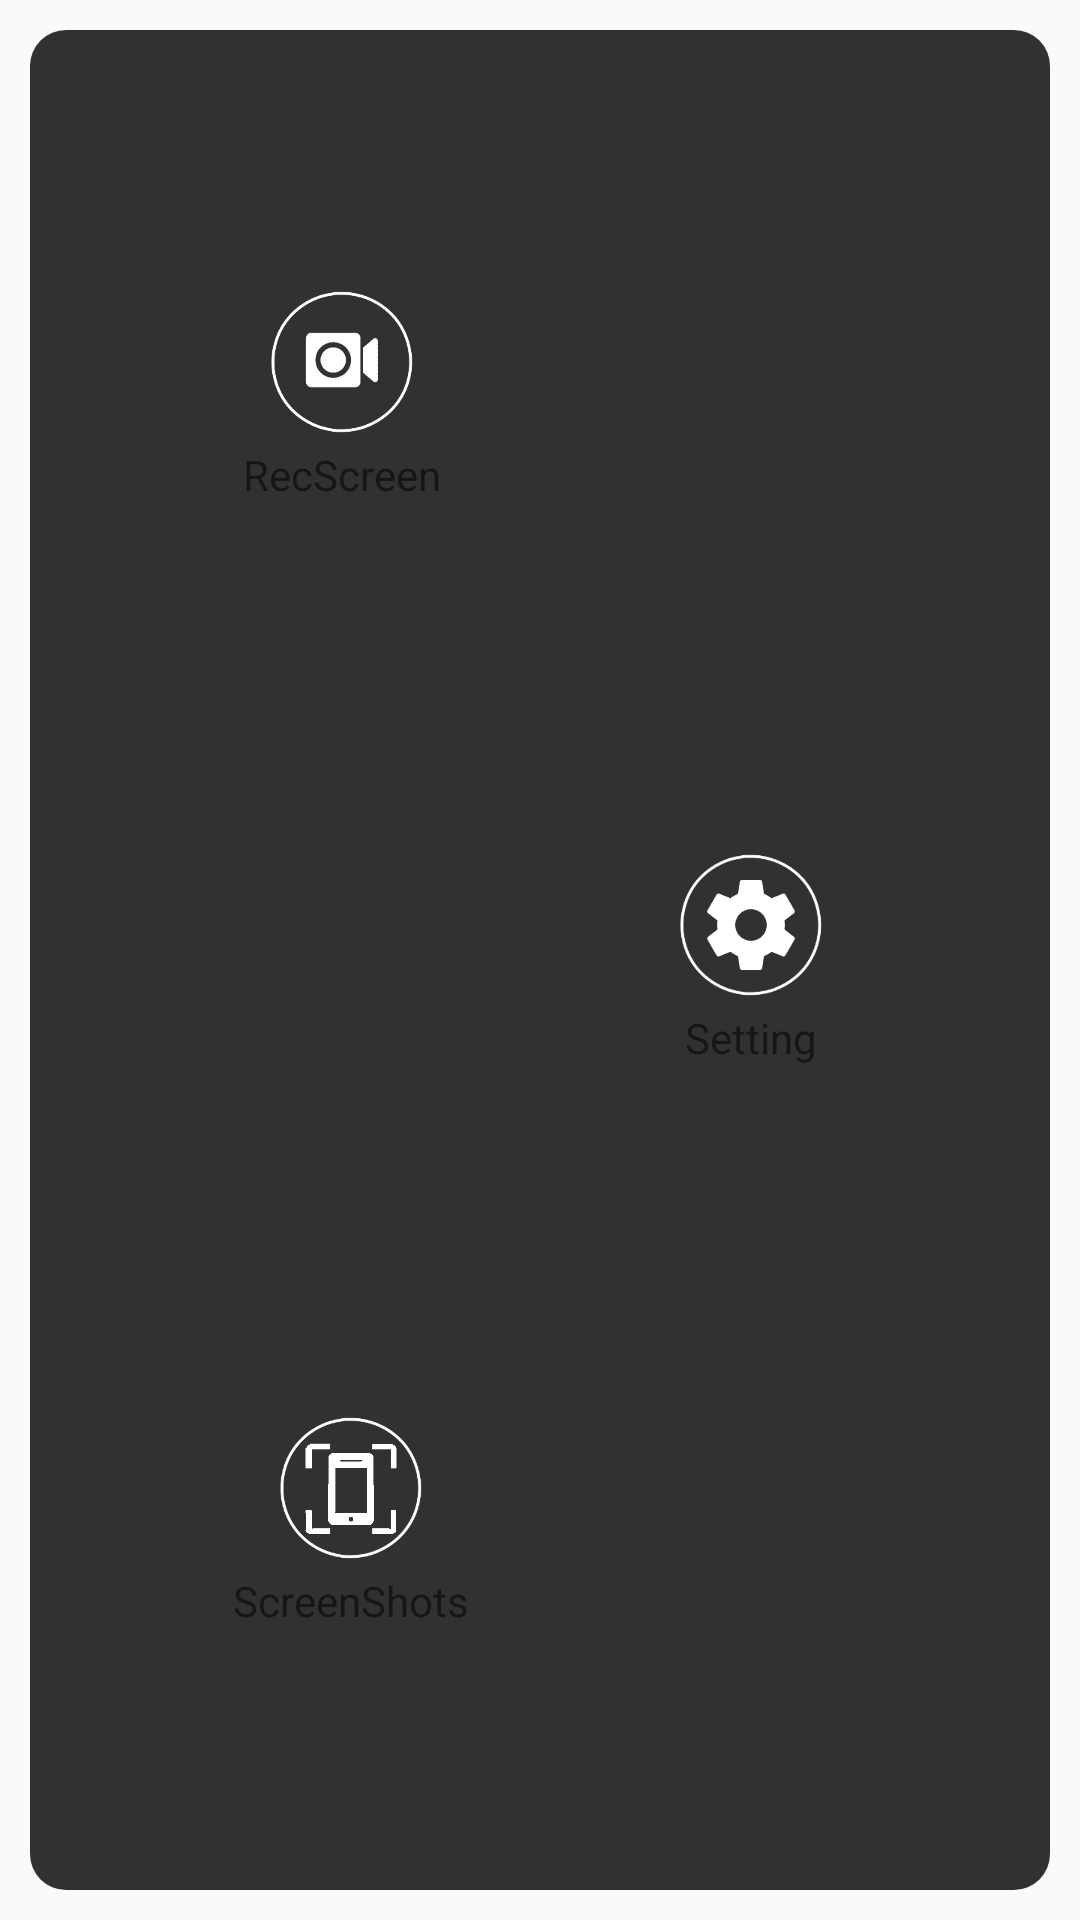

Screen size 1080×1920. Icon name, then its center in pixels as [x,y]:
recordvideo: [342,362]
